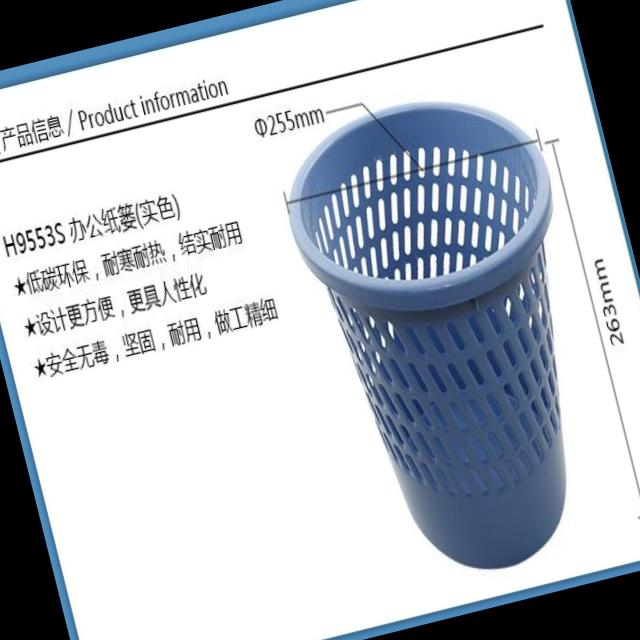dustbin: (260, 63, 640, 611)
